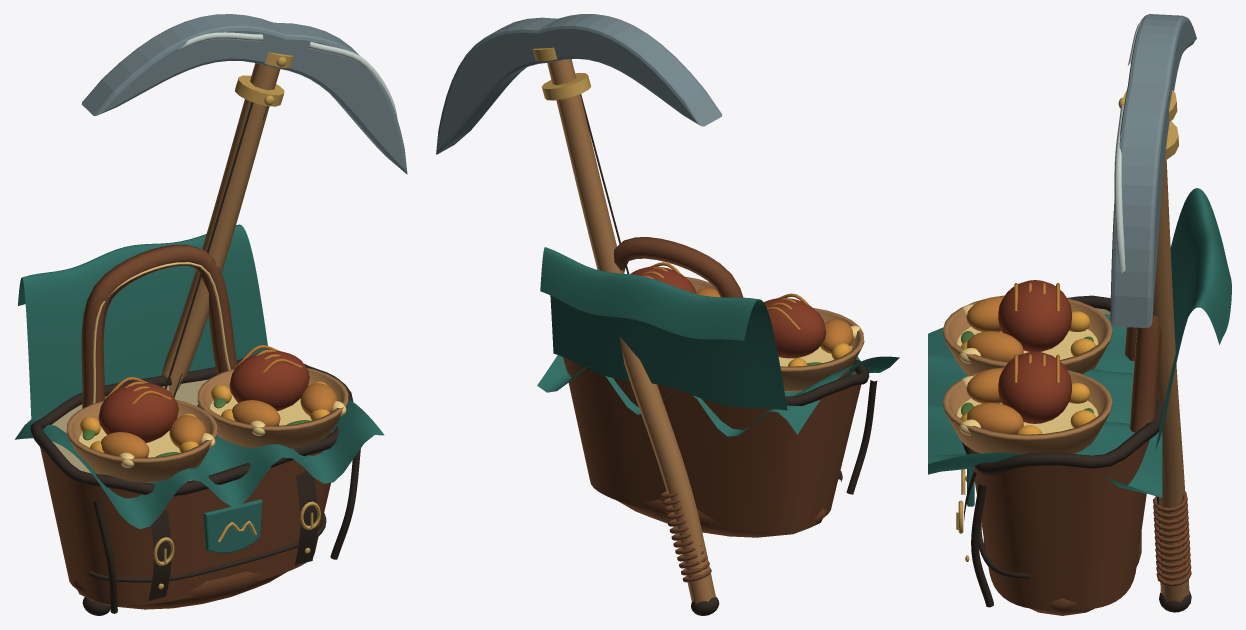
Rendered from master_expedition_kit.glb.
3 views of the same model, side by side, from view 1: azimuth 30°, elevation 25°; view 2: azimuth 150°, elevation 25°; view 3: azimuth 270°, elevation 25° (orthographic). The views are drawn at different scales.
Visible parts, largest first — view 1: kit-batch-dyed-linen, kit-batch-saddle-leather, kit-batch-oiled-ash, kit-batch-tool-head, kit-batch-seams-and-grip, kit-batch-roasted-meal, kit-batch-baked-crust, kit-batch-aged-brass, kit-batch-cut-bread-and-bone, kit-batch-tool-edge, kit-batch-golden-vegetables, kit-batch-cream-lining (+1 smaller); view 2: kit-batch-saddle-leather, kit-batch-dyed-linen, kit-batch-tool-head, kit-batch-oiled-ash, kit-batch-roasted-meal, kit-batch-seams-and-grip, kit-batch-baked-crust, kit-batch-aged-brass; view 3: kit-batch-saddle-leather, kit-batch-dyed-linen, kit-batch-tool-head, kit-batch-oiled-ash, kit-batch-roasted-meal, kit-batch-seams-and-grip, kit-batch-baked-crust, kit-batch-cut-bread-and-bone, kit-batch-golden-vegetables, kit-batch-tool-edge, kit-batch-aged-brass.
Part boxes in pixels (x1=…): kit-batch-dyed-linen: x1=15, y1=224, x2=384, y2=553; kit-batch-saddle-leather: x1=40, y1=244, x2=330, y2=609; kit-batch-oiled-ash: x1=66, y1=63, x2=348, y2=600; kit-batch-tool-head: x1=81, y1=14, x2=407, y2=174; kit-batch-seams-and-grip: x1=30, y1=102, x2=360, y2=615; kit-batch-roasted-meal: x1=98, y1=351, x2=309, y2=442; kit-batch-baked-crust: x1=101, y1=345, x2=337, y2=457; kit-batch-aged-brass: x1=153, y1=52, x2=320, y2=589; kit-batch-cut-bread-and-bone: x1=79, y1=394, x2=346, y2=467; kit-batch-tool-edge: x1=179, y1=32, x2=397, y2=119; kit-batch-golden-vegetables: x1=80, y1=381, x2=329, y2=452; kit-batch-cream-lining: x1=51, y1=379, x2=208, y2=480; kit-batch-saddle-leather: x1=563, y1=237, x2=861, y2=582; kit-batch-dyed-linen: x1=537, y1=247, x2=899, y2=436; kit-batch-tool-head: x1=436, y1=14, x2=722, y2=154; kit-batch-oiled-ash: x1=547, y1=59, x2=864, y2=603; kit-batch-roasted-meal: x1=630, y1=266, x2=826, y2=358; kit-batch-seams-and-grip: x1=580, y1=94, x2=877, y2=615; kit-batch-baked-crust: x1=642, y1=262, x2=853, y2=353; kit-batch-aged-brass: x1=532, y1=47, x2=590, y2=100; kit-batch-saddle-leather: x1=972, y1=315, x2=1191, y2=615; kit-batch-dyed-linen: x1=928, y1=188, x2=1231, y2=506; kit-batch-tool-head: x1=1110, y1=14, x2=1196, y2=328; kit-batch-oiled-ash: x1=943, y1=160, x2=1189, y2=602; kit-batch-roasted-meal: x1=998, y1=280, x2=1071, y2=423; kit-batch-seams-and-grip: x1=962, y1=295, x2=1191, y2=612; kit-batch-baked-crust: x1=966, y1=283, x2=1059, y2=433; kit-batch-cut-bread-and-bone: x1=957, y1=304, x2=1098, y2=435; kit-batch-golden-vegetables: x1=960, y1=311, x2=1096, y2=434; kit-batch-tool-edge: x1=1114, y1=18, x2=1142, y2=273; kit-batch-aged-brass: x1=956, y1=90, x2=1178, y2=561.
Size of the model in its own units: 0.7793 by 1.1 by 0.4732.
